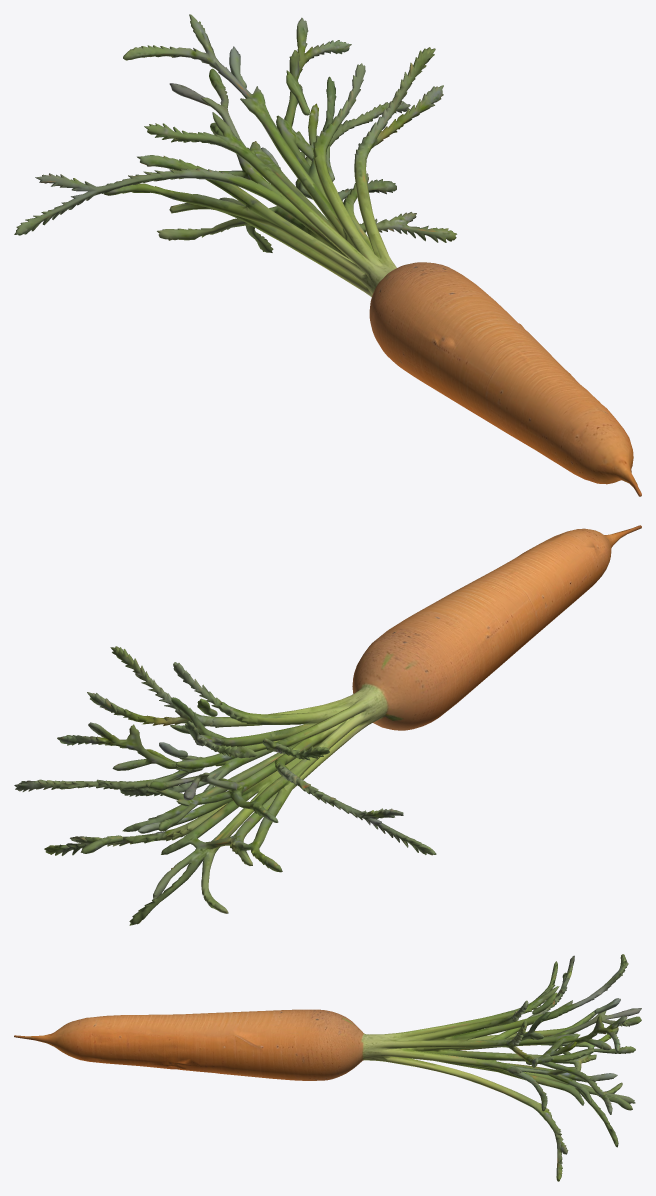
File: carrots.glb
3 renders of one model, top to bottom at view 1: azimuth 30°, elevation 25°; view 2: azimuth 150°, elevation 25°; view 3: azimuth 270°, elevation 25°, orthographic. The views are drawn at different scales.
Parts seen in each view (by area): view 1: node_0; view 2: node_0; view 3: node_0.
Part boxes in pixels (bbox=[...]): node_0: bbox=[14, 14, 641, 496]; node_0: bbox=[14, 525, 641, 925]; node_0: bbox=[14, 954, 641, 1181].
Bounding box in the file's own units: 0.602 × 0.3288 × 1.16.
Materials: 1 (1 with a texture image).
